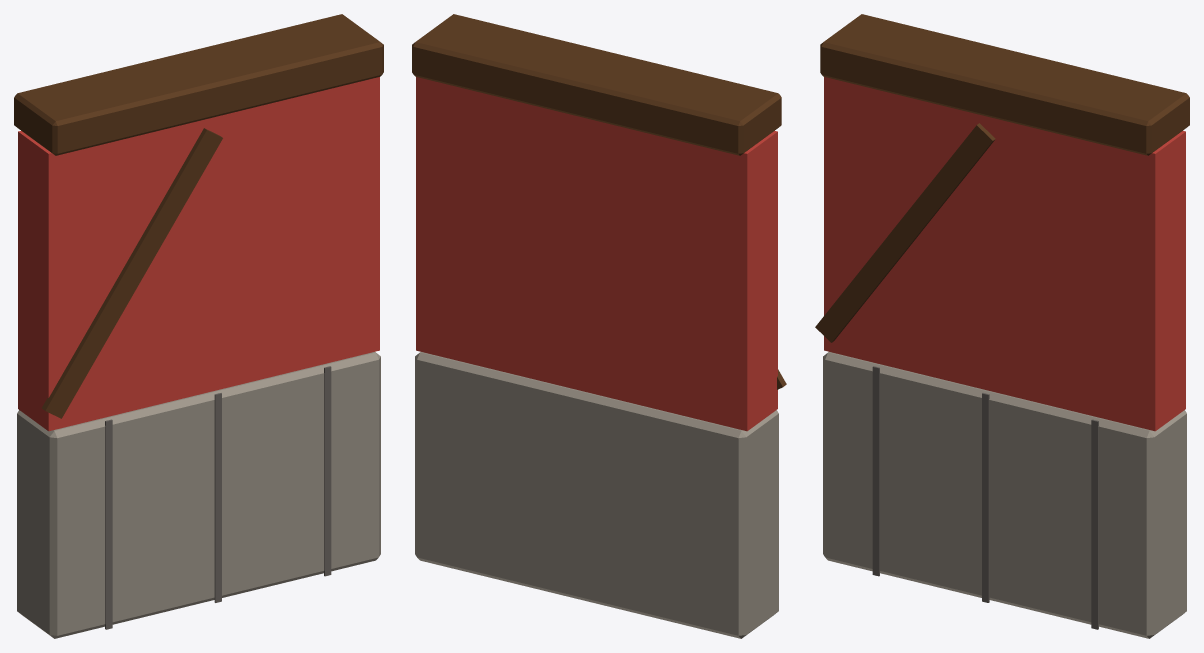
File: PR_Building_Duvar_Siva.fbx
3 renders of one model, left to right at view 1: azimuth 30°, elevation 25°; view 2: azimuth 150°, elevation 25°; view 3: azimuth 330°, elevation 25°, orthographic.
Visible parts, largest first — view 1: PR_Building_Duvar_Siva; view 2: PR_Building_Duvar_Siva; view 3: PR_Building_Duvar_Siva.
Boxes of the visible parts, x1,y1,x2,y2 form: PR_Building_Duvar_Siva: (14, 14, 383, 638); PR_Building_Duvar_Siva: (412, 14, 786, 638); PR_Building_Duvar_Siva: (815, 14, 1189, 638).
Bounding box in the file's own units: 1.02 × 1.5 × 0.22.
